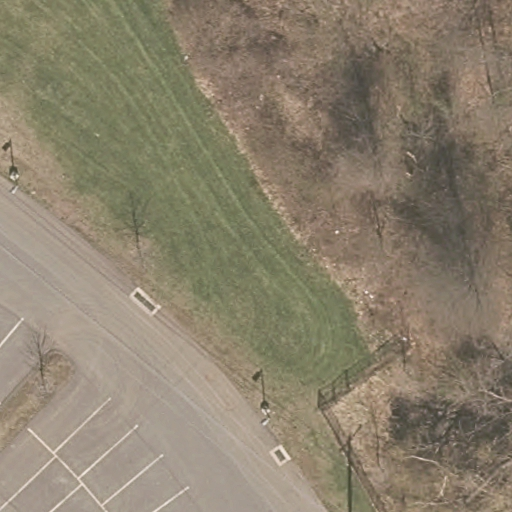DT: (258, 403, 273, 428)
